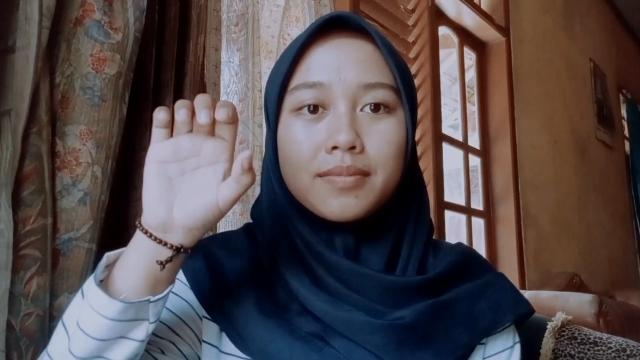E: (139, 90, 257, 242)
